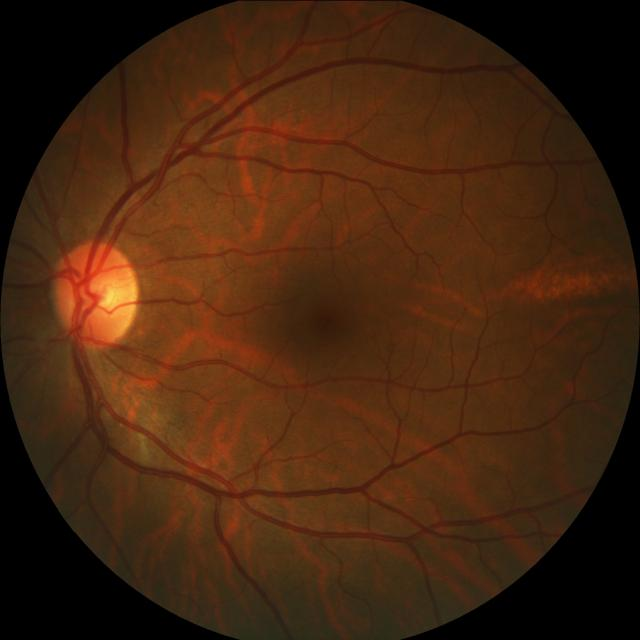OC: (74, 271, 118, 319)
OD: (54, 240, 140, 345)
